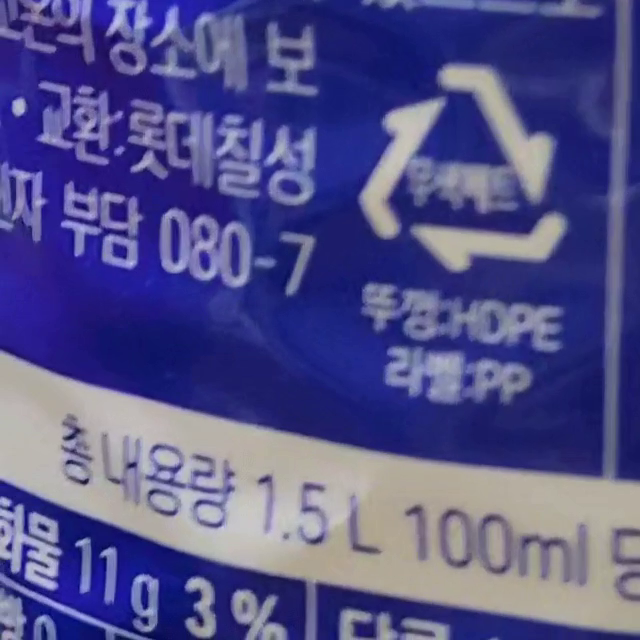ColorlessPet: (359, 66, 564, 273)
